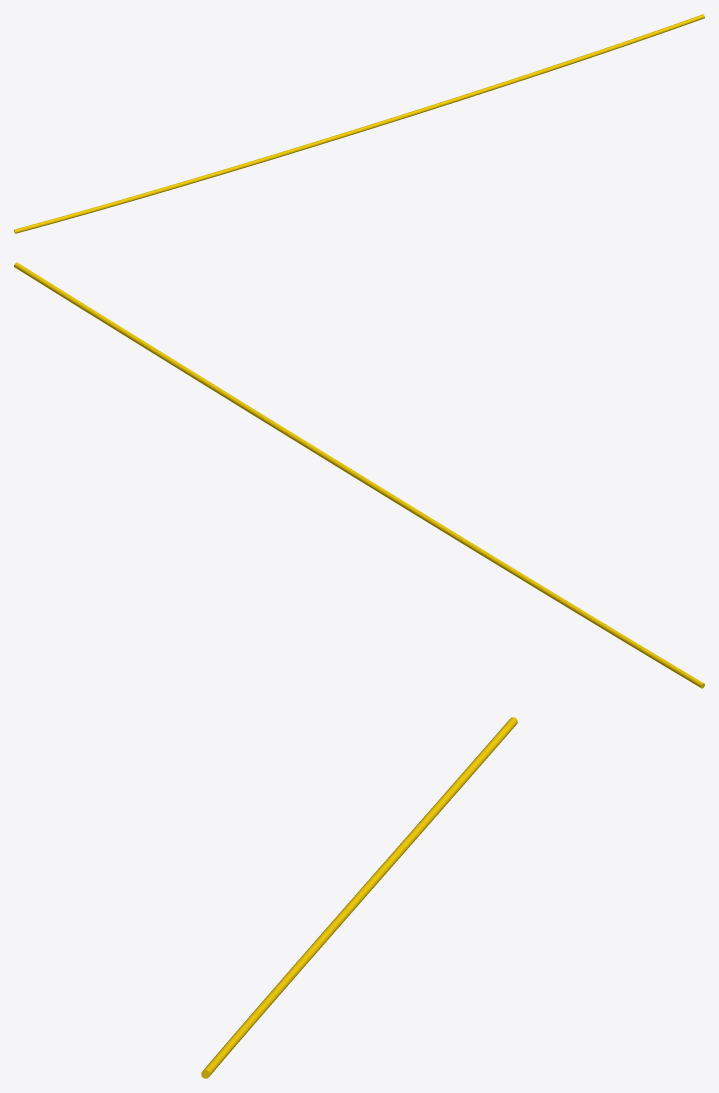
The model's file is Event_421115418_track_20.fbx.
The picture shows the model from 3 angles, top to bottom: view 1: azimuth 30°, elevation 25°; view 2: azimuth 150°, elevation 25°; view 3: azimuth 270°, elevation 25°; orthographic projection. The views are drawn at different scales.
Parts seen in each view (by area): view 1: Model; view 2: Model; view 3: Model.
Part boxes in pixels (x1,y1,x2,y2): Model: (14, 14, 704, 233); Model: (14, 262, 704, 688); Model: (201, 717, 517, 1078).
Size of the model in its own units: 6.35 by 1.25 by 1.42.
